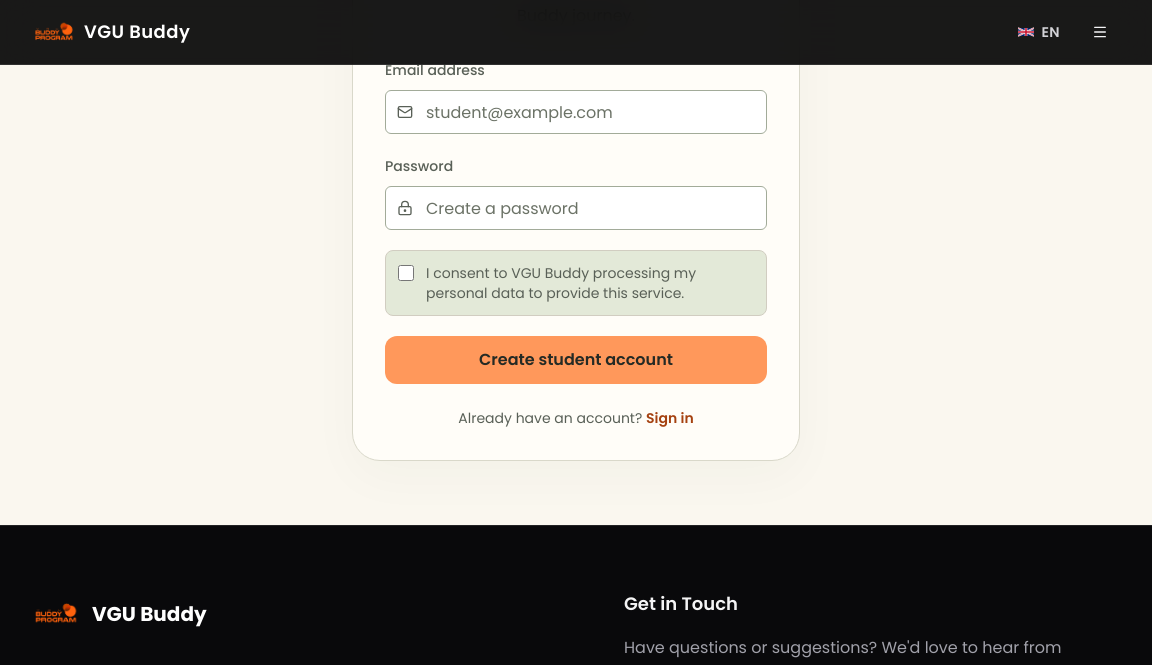
Test case: UserRegistrationPage › validates required fields and focuses the first invalid input
(page scrolled)
Click the button "Create student account" at (576, 360), box [385, 336, 767, 384]
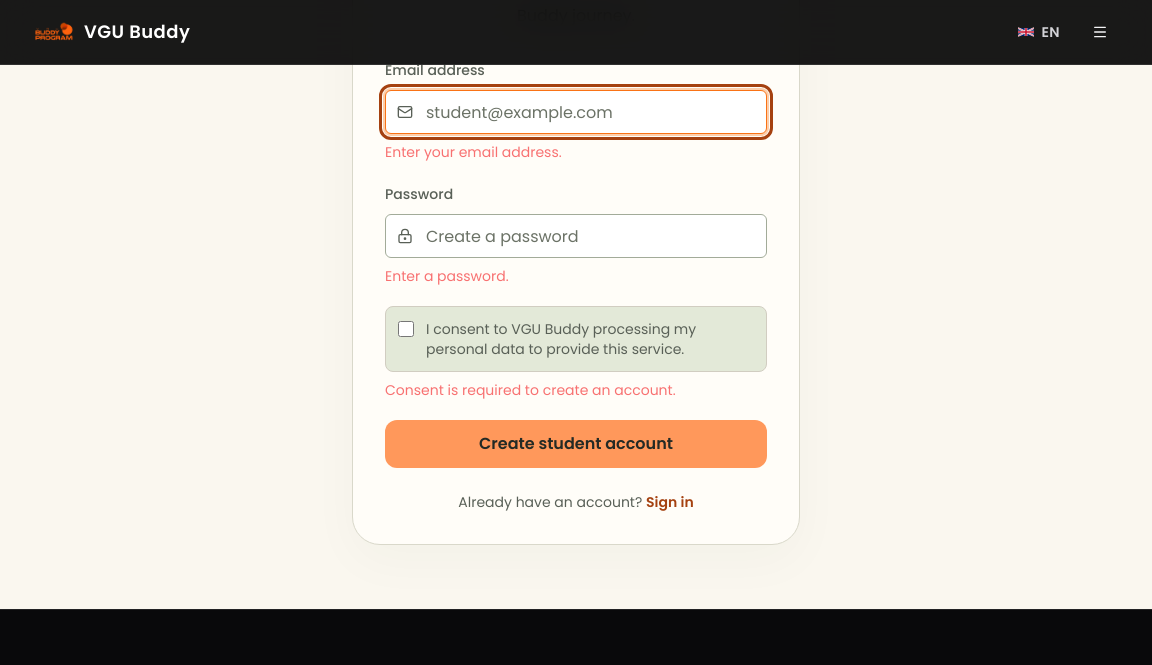
Check: the text "Enter your email address." is shown, box [385, 142, 562, 162]
Check: the text "Enter a password." is shown, box [385, 266, 509, 286]
Check: the text "Consent is required to create an account." is shown, box [385, 380, 676, 400]
